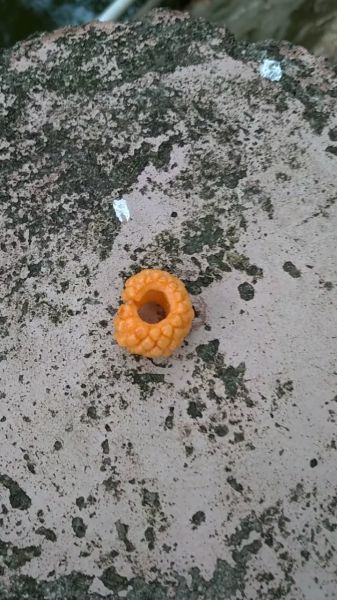eggs: (109, 259, 196, 360)
